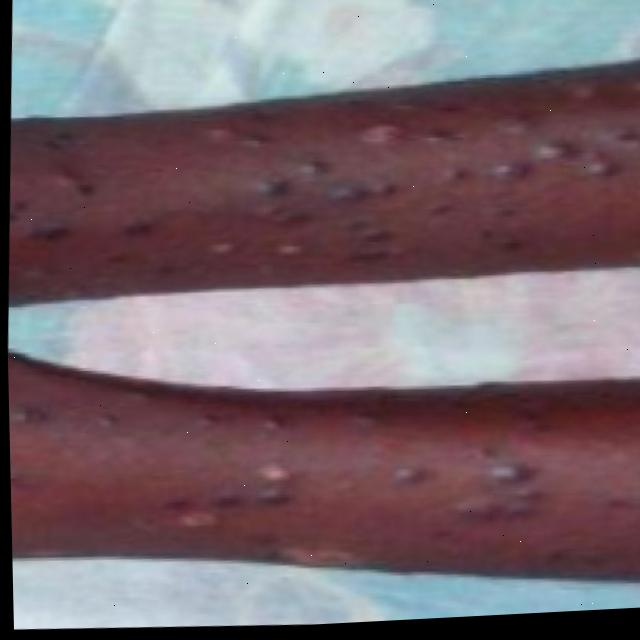Eczema: (53, 33, 640, 298), (37, 370, 640, 594)
